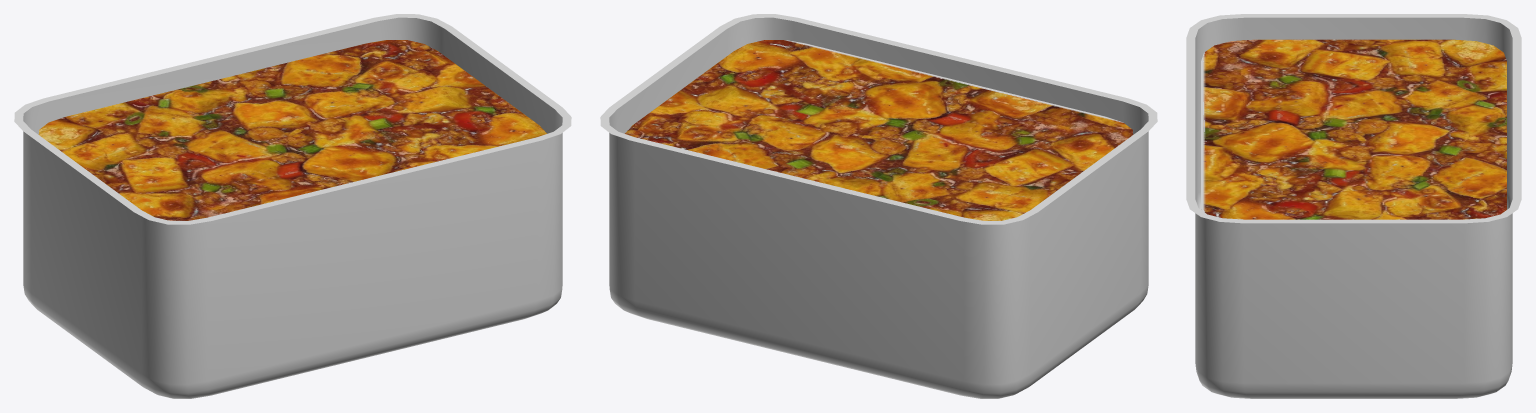
Rendered from mpdfszjkf.FBX.
3 views of the same model, side by side, from view 1: azimuth 30°, elevation 25°; view 2: azimuth 150°, elevation 25°; view 3: azimuth 270°, elevation 25° (orthographic).
Parts seen in each view (by area): view 1: Box001; view 2: Box001; view 3: Box001.
Part boxes in pixels (x1,y1,x2,y2): Box001: (14, 14, 571, 398); Box001: (600, 14, 1157, 398); Box001: (1186, 14, 1521, 398).
Size of the model in its own units: 0.1169 by 0.0481 by 0.0791.
